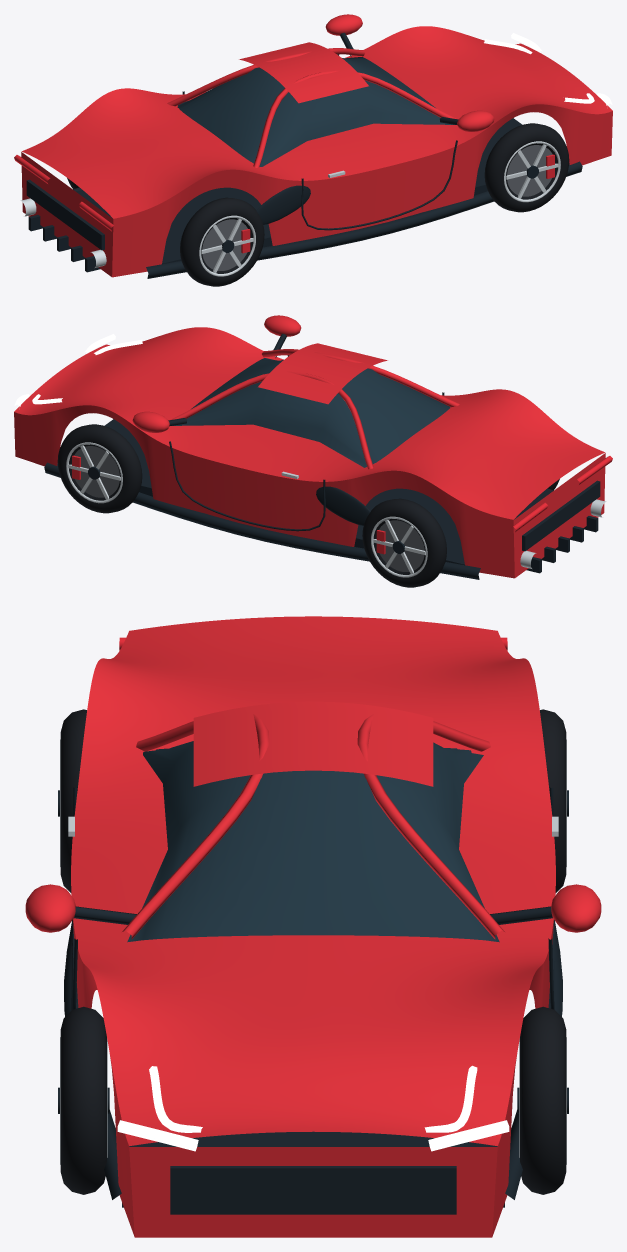
Rendered from car02.glb.
The picture shows the model from 3 angles, top to bottom: view 1: azimuth 30°, elevation 25°; view 2: azimuth 150°, elevation 25°; view 3: azimuth 270°, elevation 25°; orthographic projection. The views are drawn at different scales.
Parts seen in each view (by area): view 1: CAR02, rim (×2); view 2: CAR02, rim (×2); view 3: CAR02, front-grille.
Part boxes in pixels (x1,y1,x2,y2): CAR02: [14, 14, 612, 286]; rim (×2): [199, 141, 560, 276]; CAR02: [14, 315, 612, 587]; rim (×2): [66, 442, 427, 577]; CAR02: [25, 616, 601, 1237]; front-grille: [170, 1166, 456, 1214].
Bounding box in the file's own units: 4.66 × 1.25 × 2.25.
